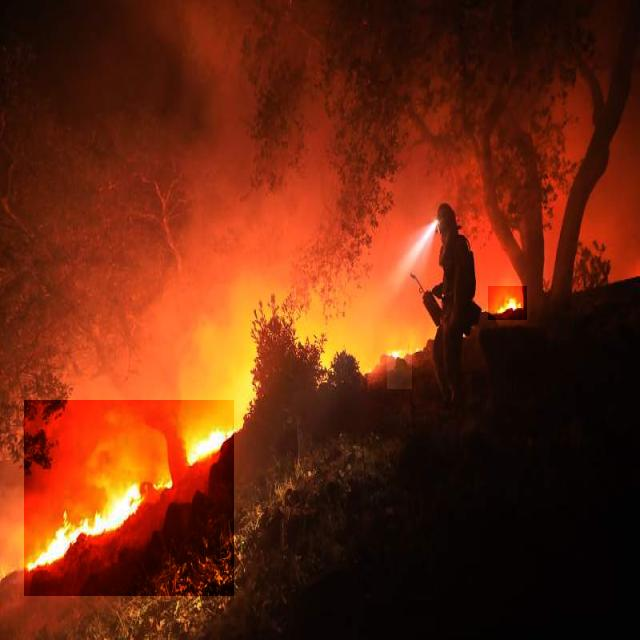Fire: (24, 400, 234, 596), (488, 286, 527, 321), (387, 350, 412, 389)
